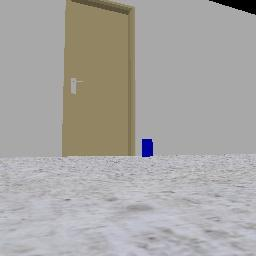albastru: (142, 138, 152, 156)
